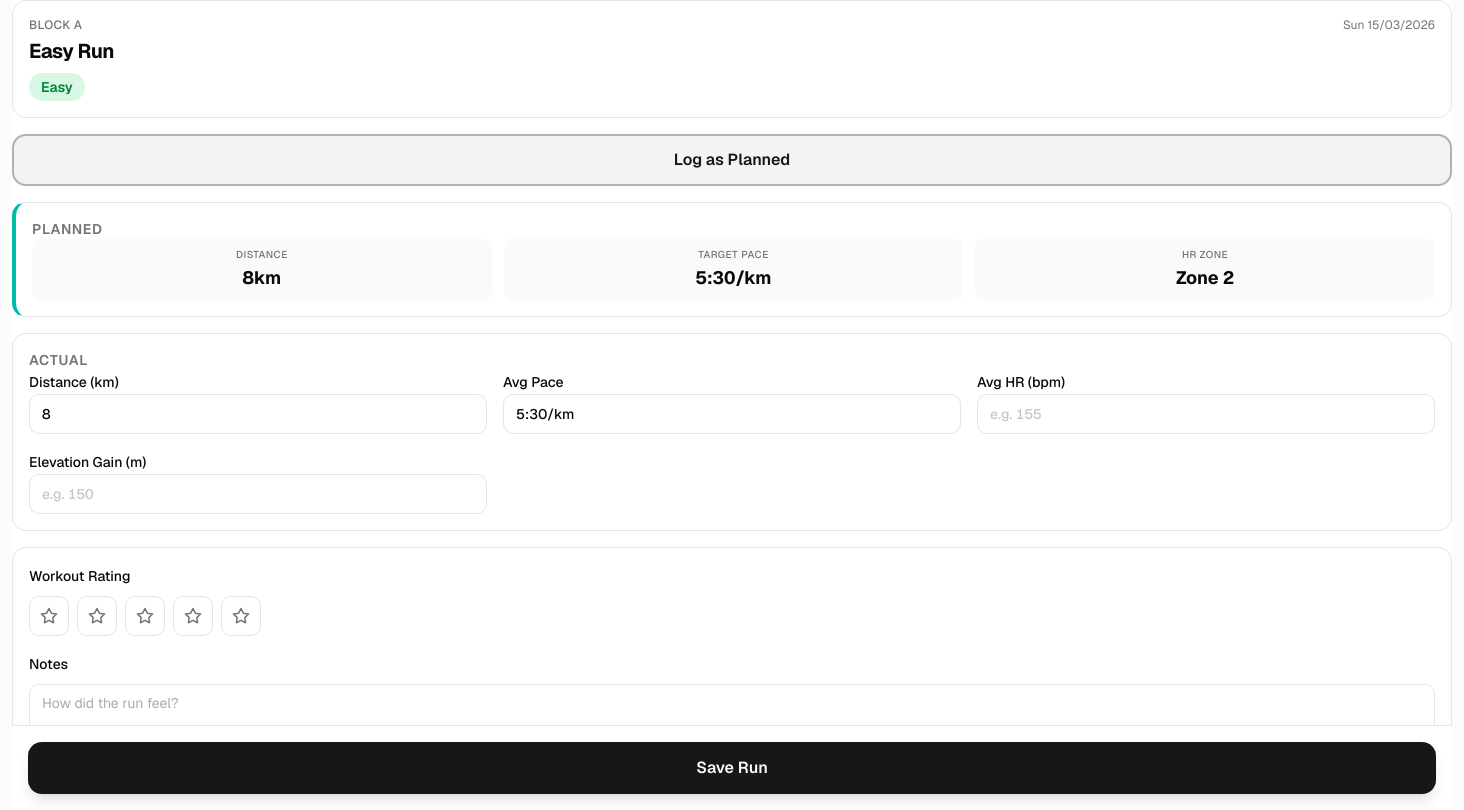
Test: Log as Planned button — running form › hides button after user modifies pace
This screenshot has width=1464, height=810.
Type "6:00/km" into the field with test id "actual-avg-pace" at x=732, y=414, box [503,394,961,434]
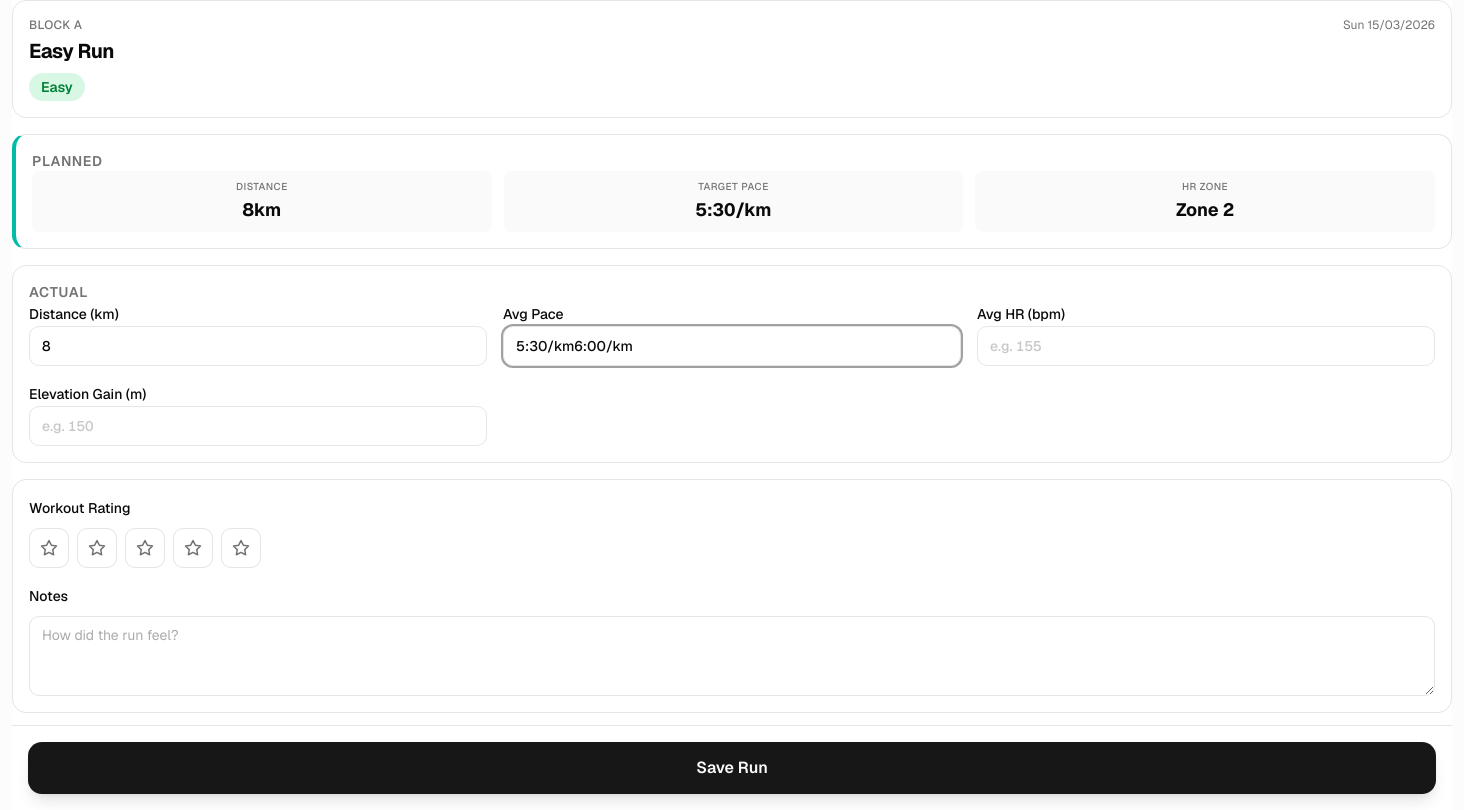
Now the button with test id "log-as-planned-btn" is gone
